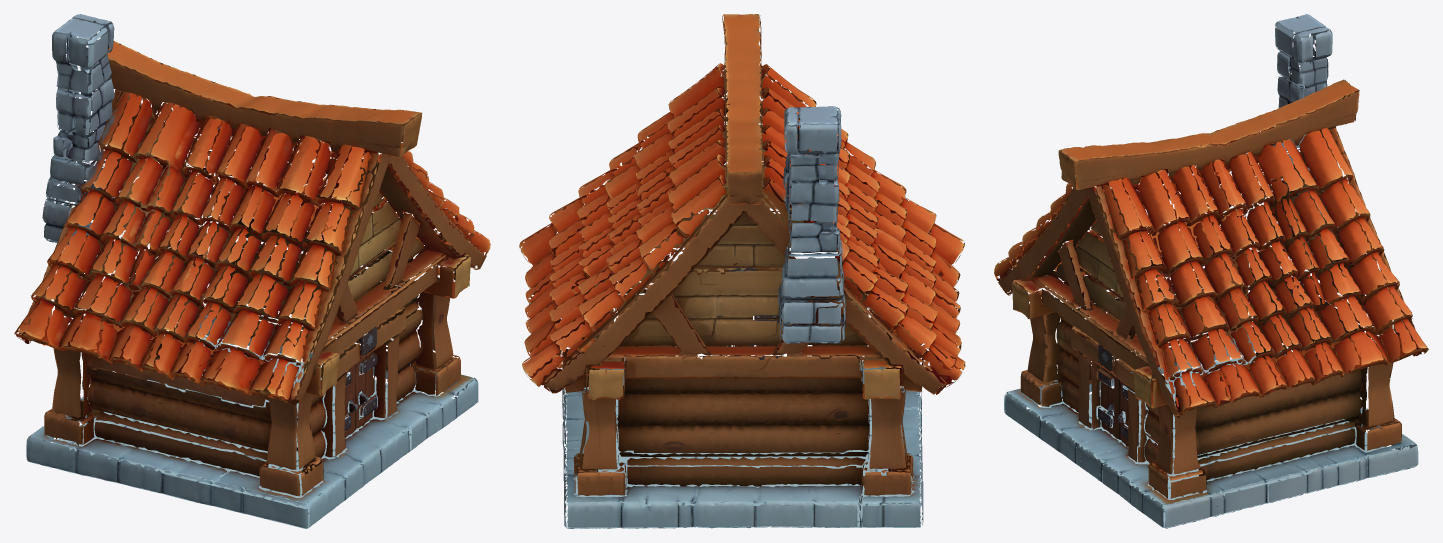
The model's file is town_hall_lod.glb.
3 views of the same model, side by side, from view 1: azimuth 30°, elevation 25°; view 2: azimuth 150°, elevation 25°; view 3: azimuth 270°, elevation 25° (orthographic). The views are drawn at different scales.
Bounding box in the file's own units: 2 × 1.7 × 1.84.
Materials: 1 (1 with a texture image).
